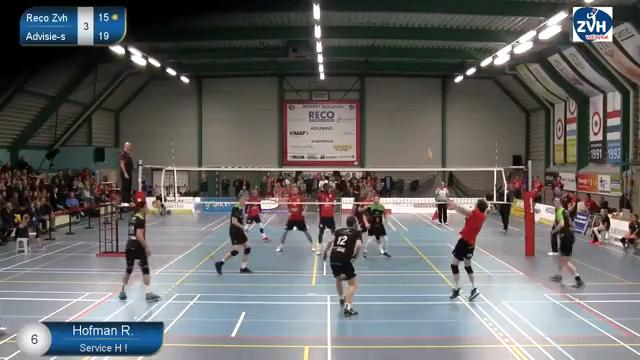Player: (119, 201, 160, 300), (323, 216, 361, 316), (215, 197, 251, 273), (550, 211, 584, 287), (276, 186, 315, 251), (363, 196, 390, 257), (316, 183, 335, 254), (244, 189, 268, 241), (352, 197, 368, 232)
Receive: (433, 187, 499, 312)
ball: (425, 148, 434, 162)
